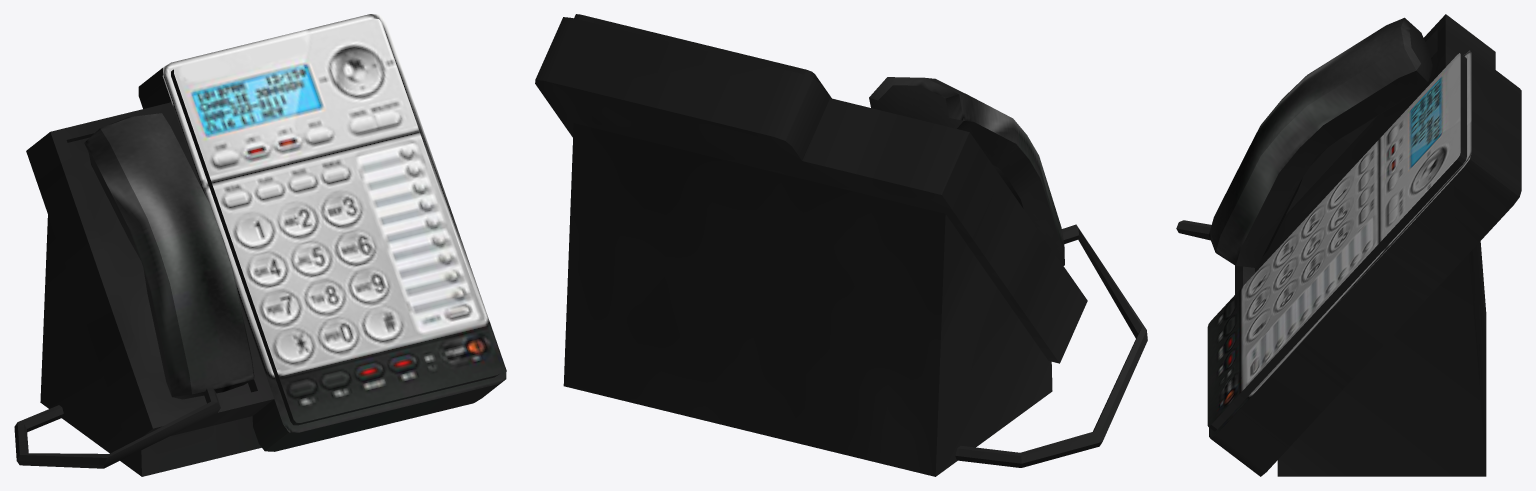
File: OfficePhone1.FBX
3 views of the same model, side by side, from view 1: azimuth 30°, elevation 25°; view 2: azimuth 150°, elevation 25°; view 3: azimuth 270°, elevation 25° (orthographic). The views are drawn at different scales.
Parts seen in each view (by area): view 1: OfficePhone1; view 2: OfficePhone1; view 3: OfficePhone1.
Part boxes in pixels (x1=…): OfficePhone1: x1=14, y1=14, x2=506, y2=476; OfficePhone1: x1=535, y1=14, x2=1147, y2=476; OfficePhone1: x1=1176, y1=14, x2=1521, y2=476.
Size of the model in its own units: 10.32 by 7.41 by 7.17.
